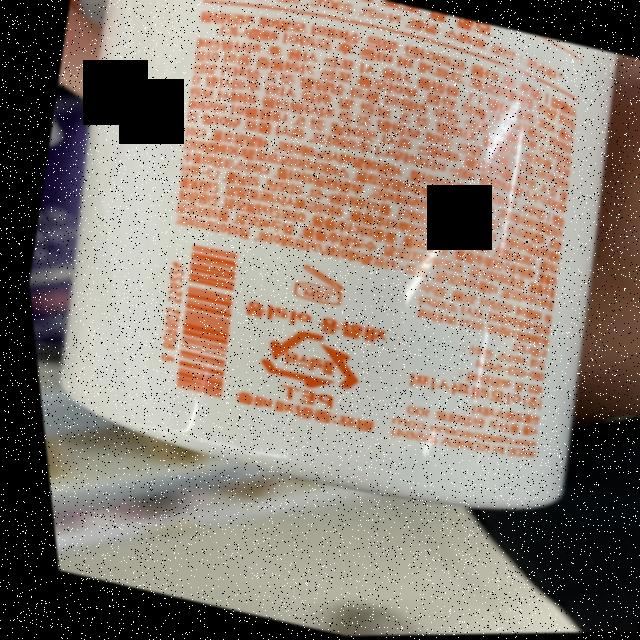Plastic: (243, 317, 363, 402)
